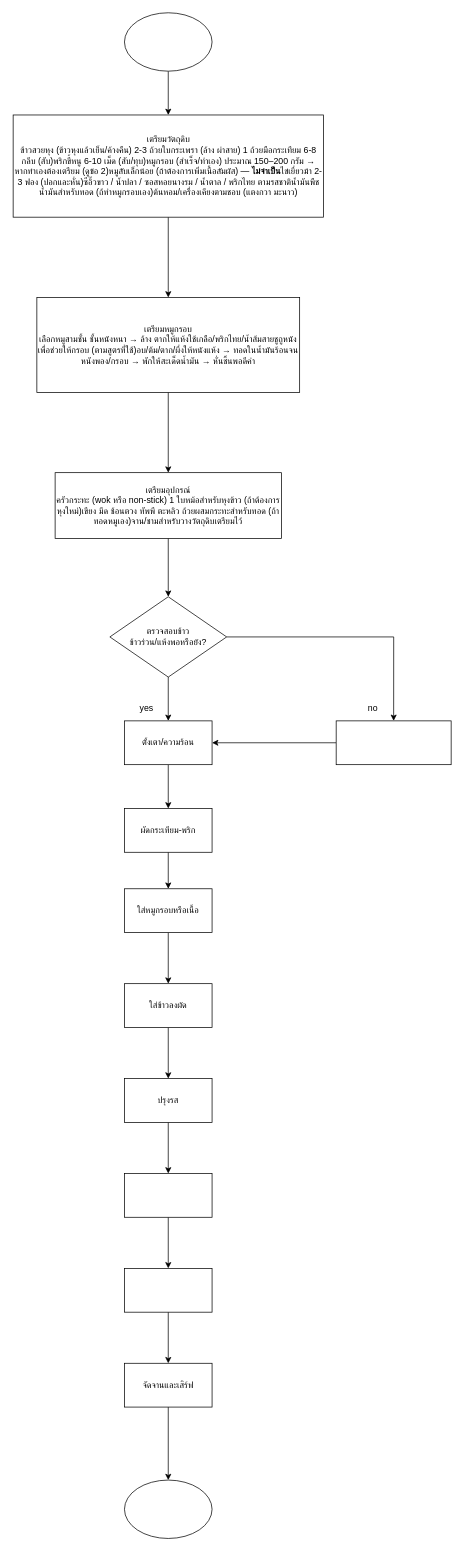
The diagram is 464 pixels wide and 1551 high, and some of its shapes have lost their labels. Each missing label, with the centre of its shape:
end: pixel 168 1508
start: pixel 168 41
คลุกข้าวให้แห้งด้วยส้อม / แผ่ข้าว พักให้เย็น / ใช้ข้าวค้างคืน: pixel 393 742
เตรียมไข่เยี่ยวม้า: pixel 168 1290
เติมใบกระเพรา: pixel 168 1195
